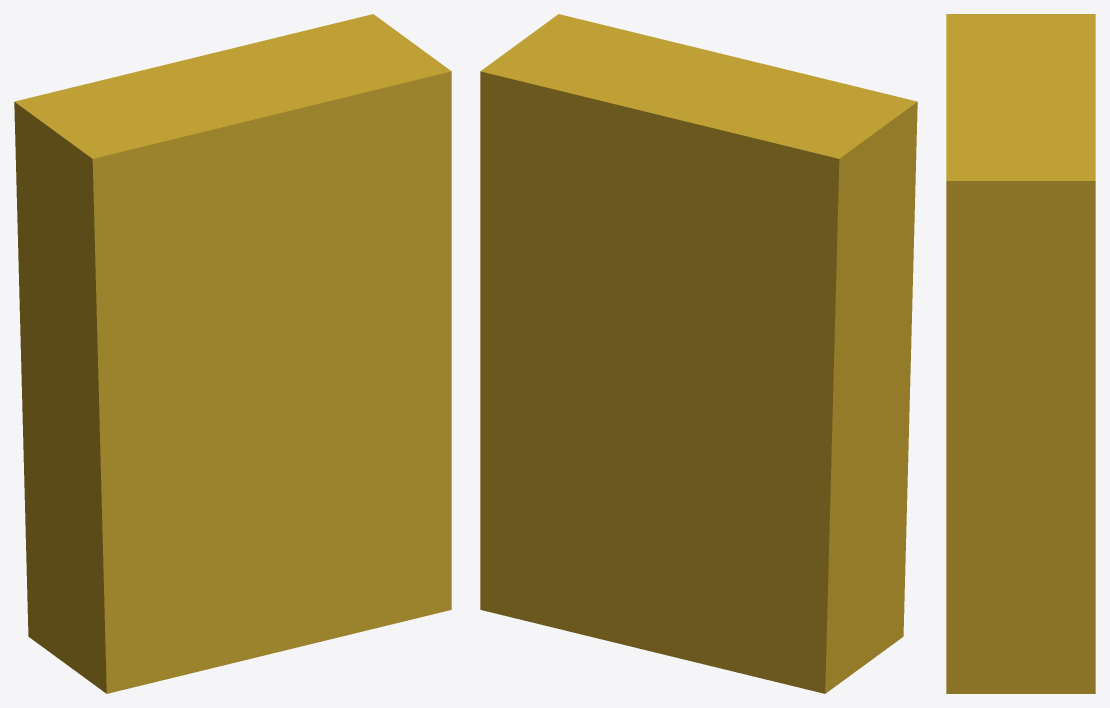
3 views of the same model, side by side, from view 1: azimuth 30°, elevation 25°; view 2: azimuth 150°, elevation 25°; view 3: azimuth 270°, elevation 25° (orthographic). The views are drawn at different scales.
Parts seen in each view (by area): view 1: geometry_0; view 2: geometry_0; view 3: geometry_0.
Part boxes in pixels (<box>): geometry_0: <box>14,14,451,693</box>; geometry_0: <box>480,14,917,693</box>; geometry_0: <box>946,14,1095,693</box>.
Bounding box in the file's own units: 7.94 × 11.38 × 3.
